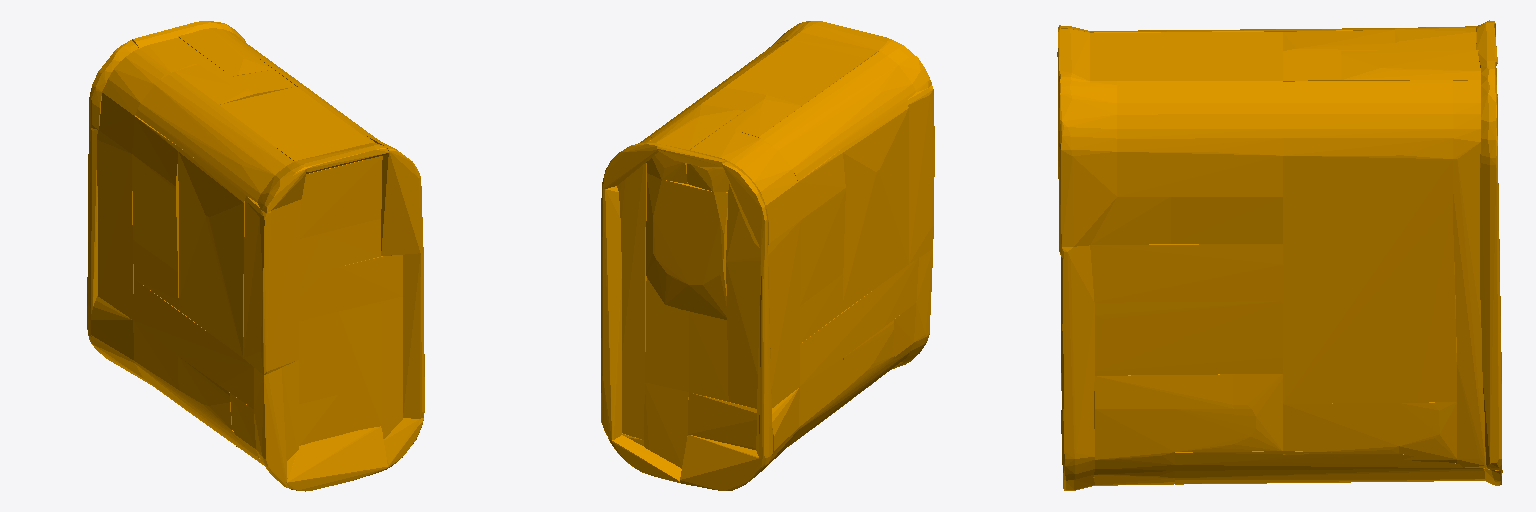
URDF robot description (can-spam):
<?xml version="1.0" ?>
<robot name="can-spam">
  <link name="baseLink">
    <contact>
      <lateral_friction value="1.0"/>
      <inertia_scaling value="3.0"/>
    </contact>
    <inertial>
      <origin rpy="0 0 0" xyz="0.000 0.000 0.000"/>
       <mass value=".1"/>
       <inertia ixx="1" ixy="0.0" ixz="0.0" iyy="1" iyz="0.0" izz="1"/>
    </inertial>
    <visual>
      <origin rpy="0 0 0" xyz="0 0 0"/>
      <geometry>
        <mesh filename="can/can-spam.obj" scale="1.0 1.0 1.0"/>
      </geometry>
    </visual>
    <collision>
      <origin rpy="0 0 0" xyz="0 0 0"/>
      <geometry>
        <mesh filename="../collision/can/can-spam.obj" scale="1.0 1.0 1.0"/>
      </geometry>
    </collision>
  </link>
</robot>
        

--- Render facts (derived) ---
3 views of the same robot in one strip: view 1: azimuth 30°, elevation 25°; view 2: azimuth 150°, elevation 25°; view 3: azimuth 270°, elevation 25° (orthographic).
Model can-spam with 1 links and 0 joints (none), rooted at baseLink, posed every joint at zero.
Visible links, largest first — view 1: baseLink; view 2: baseLink; view 3: baseLink.
Boxes of the visible links, x1,y1,x2,y2 form: baseLink: (87,21,424,491); baseLink: (601,21,934,490); baseLink: (1057,20,1502,490).
Bounding box of the posed robot: 0.0513 × 0.092 × 0.0958 m (x, y, z).
1 mesh visuals loaded from 1 distinct referenced files (1 OBJ).